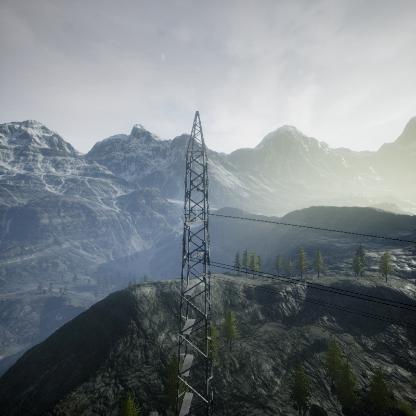tower: (172, 111, 219, 416)
